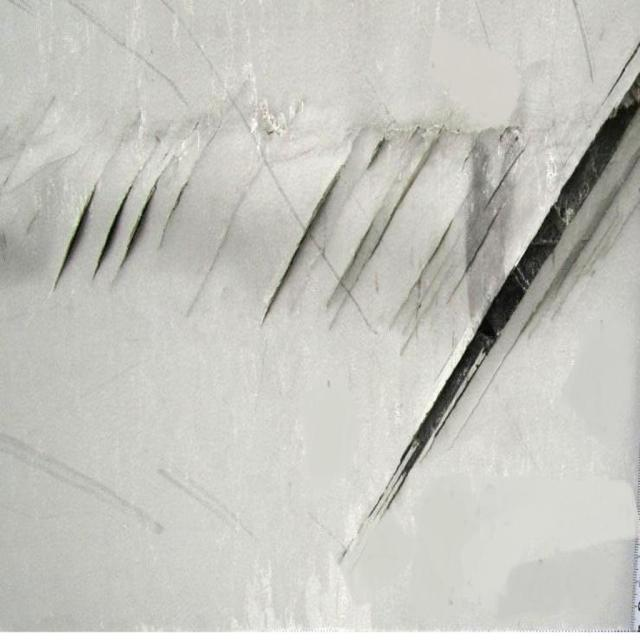crack: (392, 52, 640, 493), (257, 147, 379, 322), (47, 175, 182, 294)
